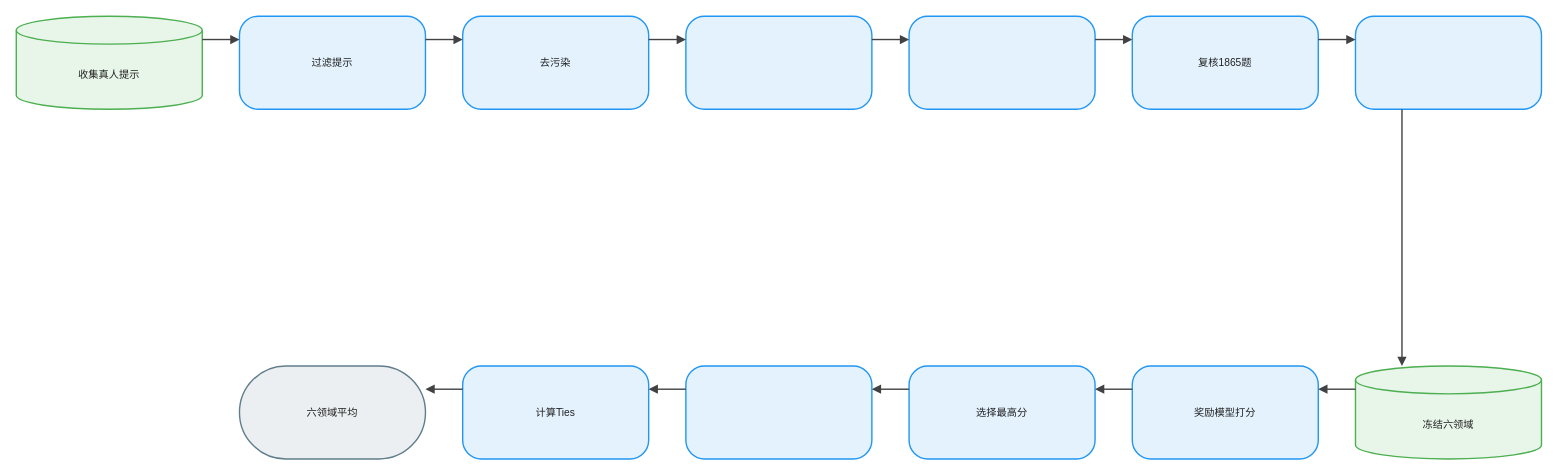
Some shapes in this 1559 by 476 pixel diagram are drawn without their labels. The shapes that lost their labels are listed below. From the top down, each one's centre as x and y in pixels, then its label:
(x=778, y=62): 生成候选回答
(x=1001, y=62): 领域专属过滤
(x=1448, y=62): 构建四选一
(x=778, y=412): 核对优选答案
